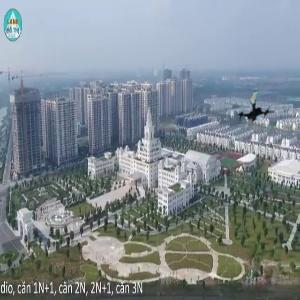drone: (235, 86, 280, 131)
